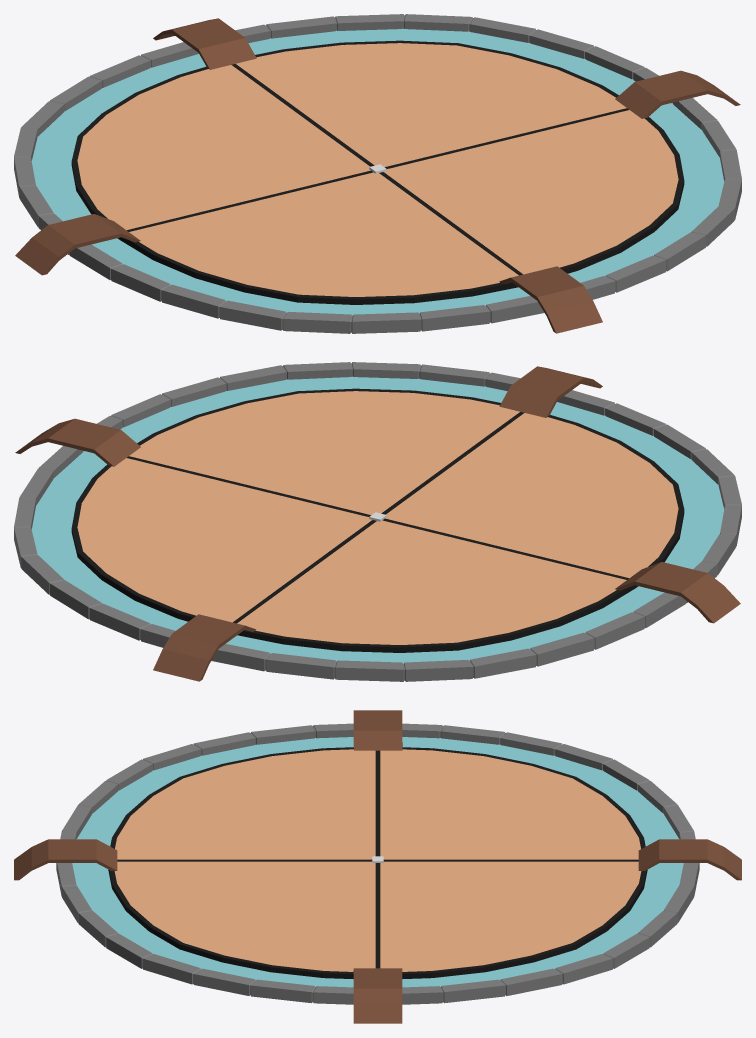
The model's file is Training area.fbx.
The picture shows the model from 3 angles, top to bottom: view 1: azimuth 30°, elevation 25°; view 2: azimuth 150°, elevation 25°; view 3: azimuth 270°, elevation 25°; orthographic projection. The views are drawn at different scales.
Visible parts, largest first — view 1: Plane, Plane.003, Plane.002, Cube.001, Cube, Cube.002, Cube.003; view 2: Plane, Plane.003, Plane.002, Cube.003, Cube, Cube.002, Cube.001; view 3: Plane, Plane.003, Plane.002, Cube.002, Cube.001, Cube.003, Cube.
Boxes of the visible parts, x1,y1,x2,y2 form: Plane: (71,40,684,304); Plane.003: (14,14,741,333); Plane.002: (31,28,724,315); Cube.001: (499,266,602,333); Cube: (15,214,140,275); Cube.002: (615,70,740,118); Cube.003: (153,18,256,69); Plane: (71,388,684,652); Plane.003: (14,362,741,681); Plane.002: (31,376,724,663); Cube.003: (153,614,256,681); Cube: (615,562,740,623); Cube.002: (15,418,140,466); Cube.001: (499,366,602,417); Plane: (108,747,647,978); Plane.003: (56,723,699,1004); Plane.002: (72,737,683,987); Cube.002: (353,968,402,1023); Cube.001: (14,839,117,880); Cube.003: (638,839,741,880); Cube: (353,710,402,750).
Size of the model in its own units: 3438 by 108 by 3438.
